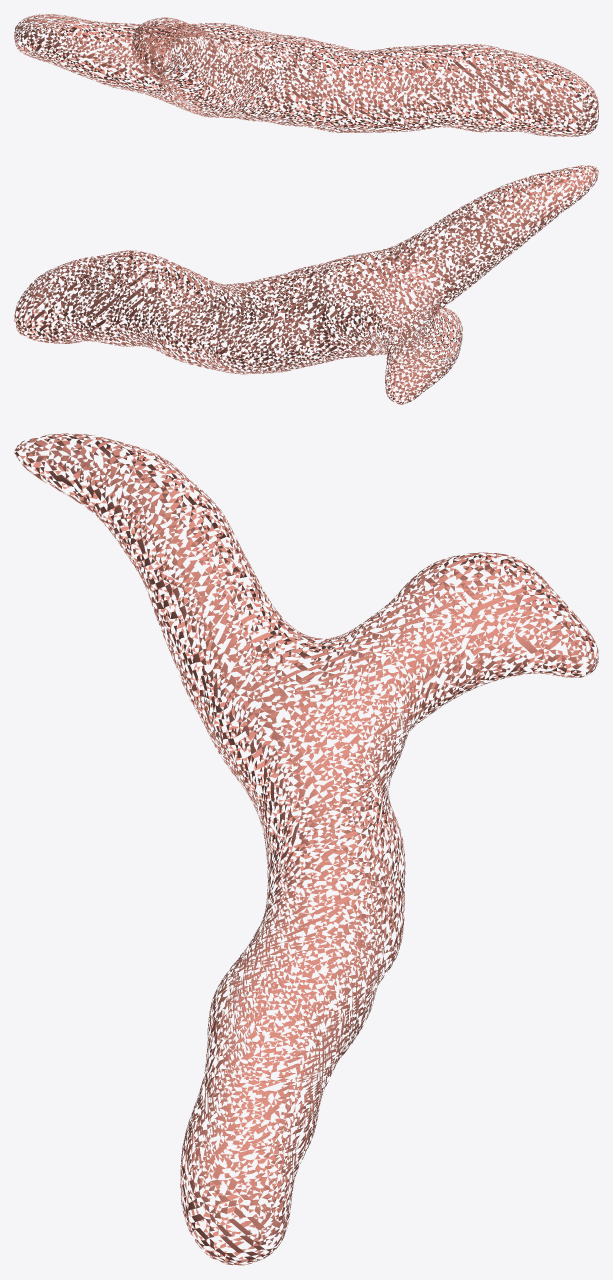
File: morph_002.glb
The picture shows the model from 3 angles, top to bottom: view 1: azimuth 30°, elevation 25°; view 2: azimuth 150°, elevation 25°; view 3: azimuth 270°, elevation 25°; orthographic projection. The views are drawn at different scales.
Bounding box in the file's own units: 105 × 48.84 × 60.85.
